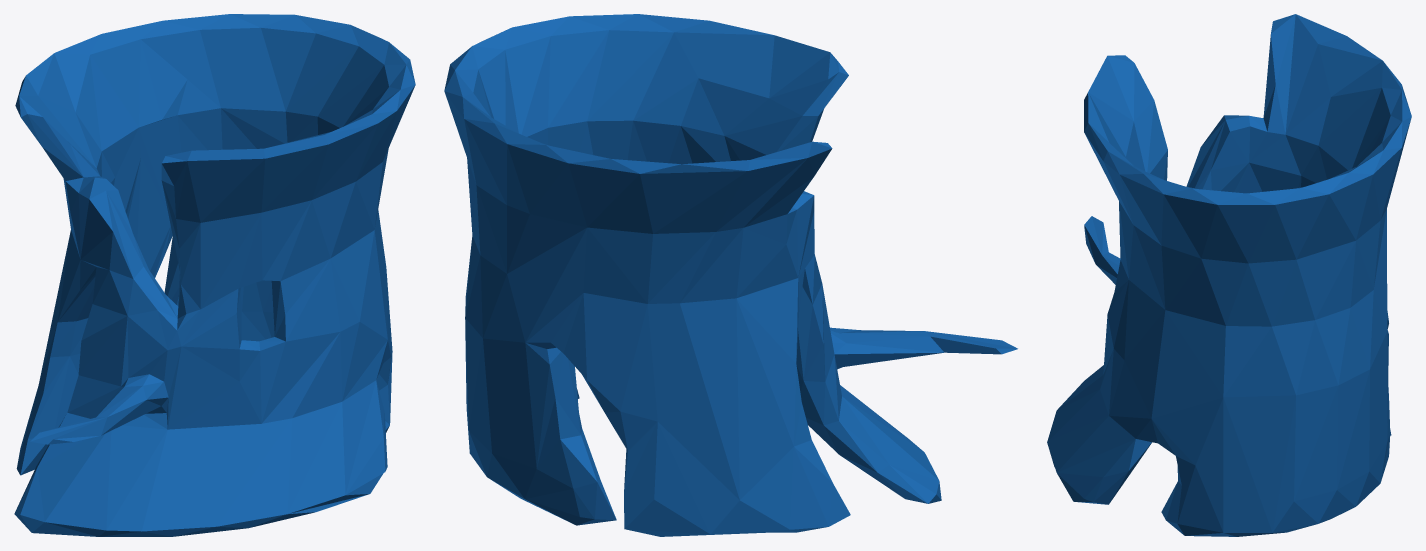
The model's file is SM_TreeStomp_V1.FBX.
3 views of the same model, side by side, from view 1: azimuth 30°, elevation 25°; view 2: azimuth 150°, elevation 25°; view 3: azimuth 270°, elevation 25° (orthographic). The views are drawn at different scales.
Visible parts, largest first — view 1: RottingLog; view 2: RottingLog; view 3: RottingLog.
Boxes of the visible parts, x1,y1,x2,y2 form: RottingLog: [14, 14, 415, 536]; RottingLog: [444, 14, 1017, 536]; RottingLog: [1047, 14, 1411, 536].
Bounding box in the file's own units: 60.22 × 48.55 × 43.17.
